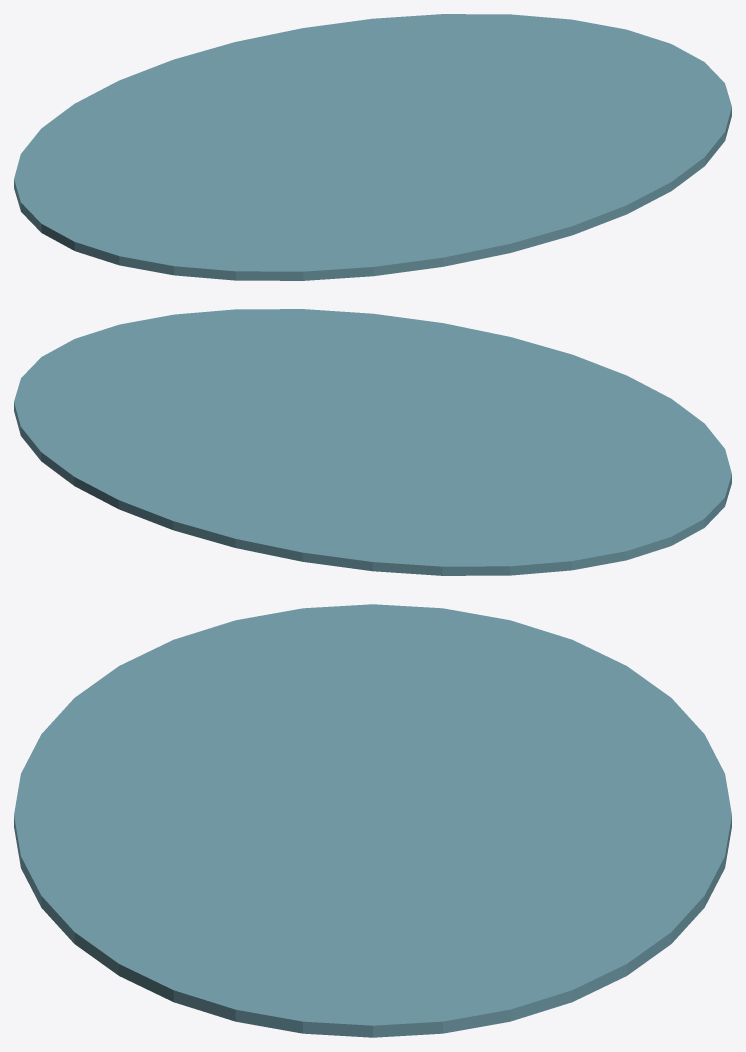
File: lago.glb
3 views of the same model, one above another, from view 1: azimuth 30°, elevation 25°; view 2: azimuth 150°, elevation 25°; view 3: azimuth 270°, elevation 25° (orthographic). The views are drawn at different scales.
Visible parts, largest first — view 1: world; view 2: world; view 3: world.
Boxes of the visible parts, x1,y1,x2,y2 form: world: (14,14,731,280); world: (14,309,731,575); world: (14,604,731,1037).
Size of the model in its own units: 6 by 0.08 by 4.32.
